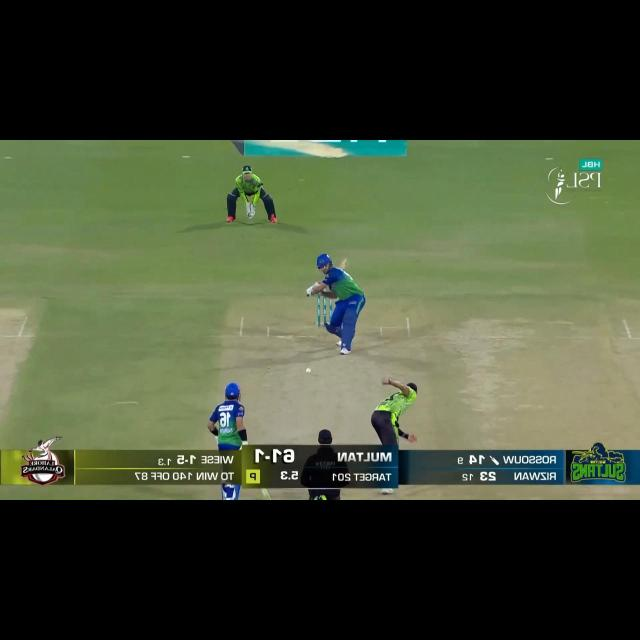bat: (338, 257, 351, 270)
toe: (260, 488, 270, 500), (342, 258, 349, 266)
